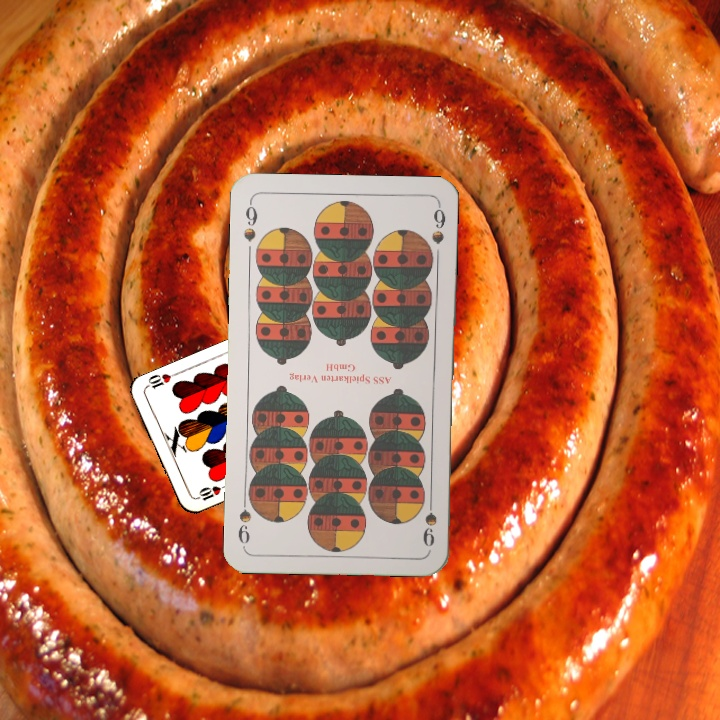H10: (191, 481, 230, 503)
S9: (418, 491, 440, 549), (239, 198, 260, 245)
